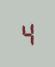four: (19, 20, 34, 46)
